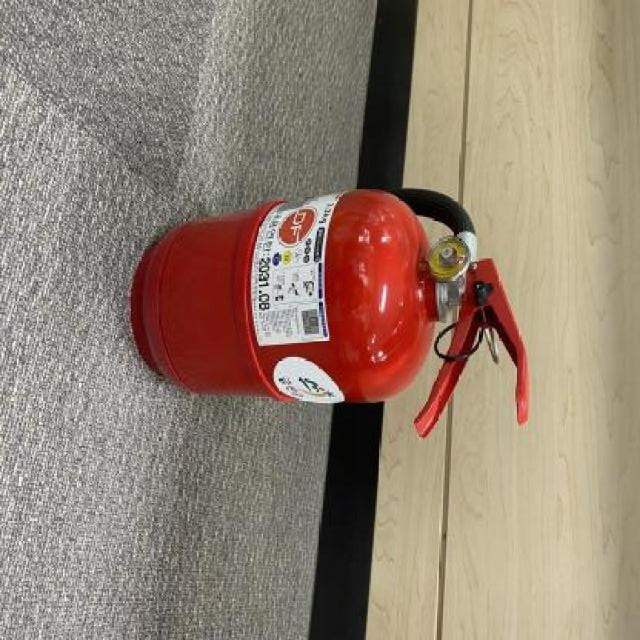fire extinguisher: (132, 189, 532, 440)
